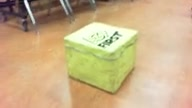cube: (63, 21, 139, 94)
